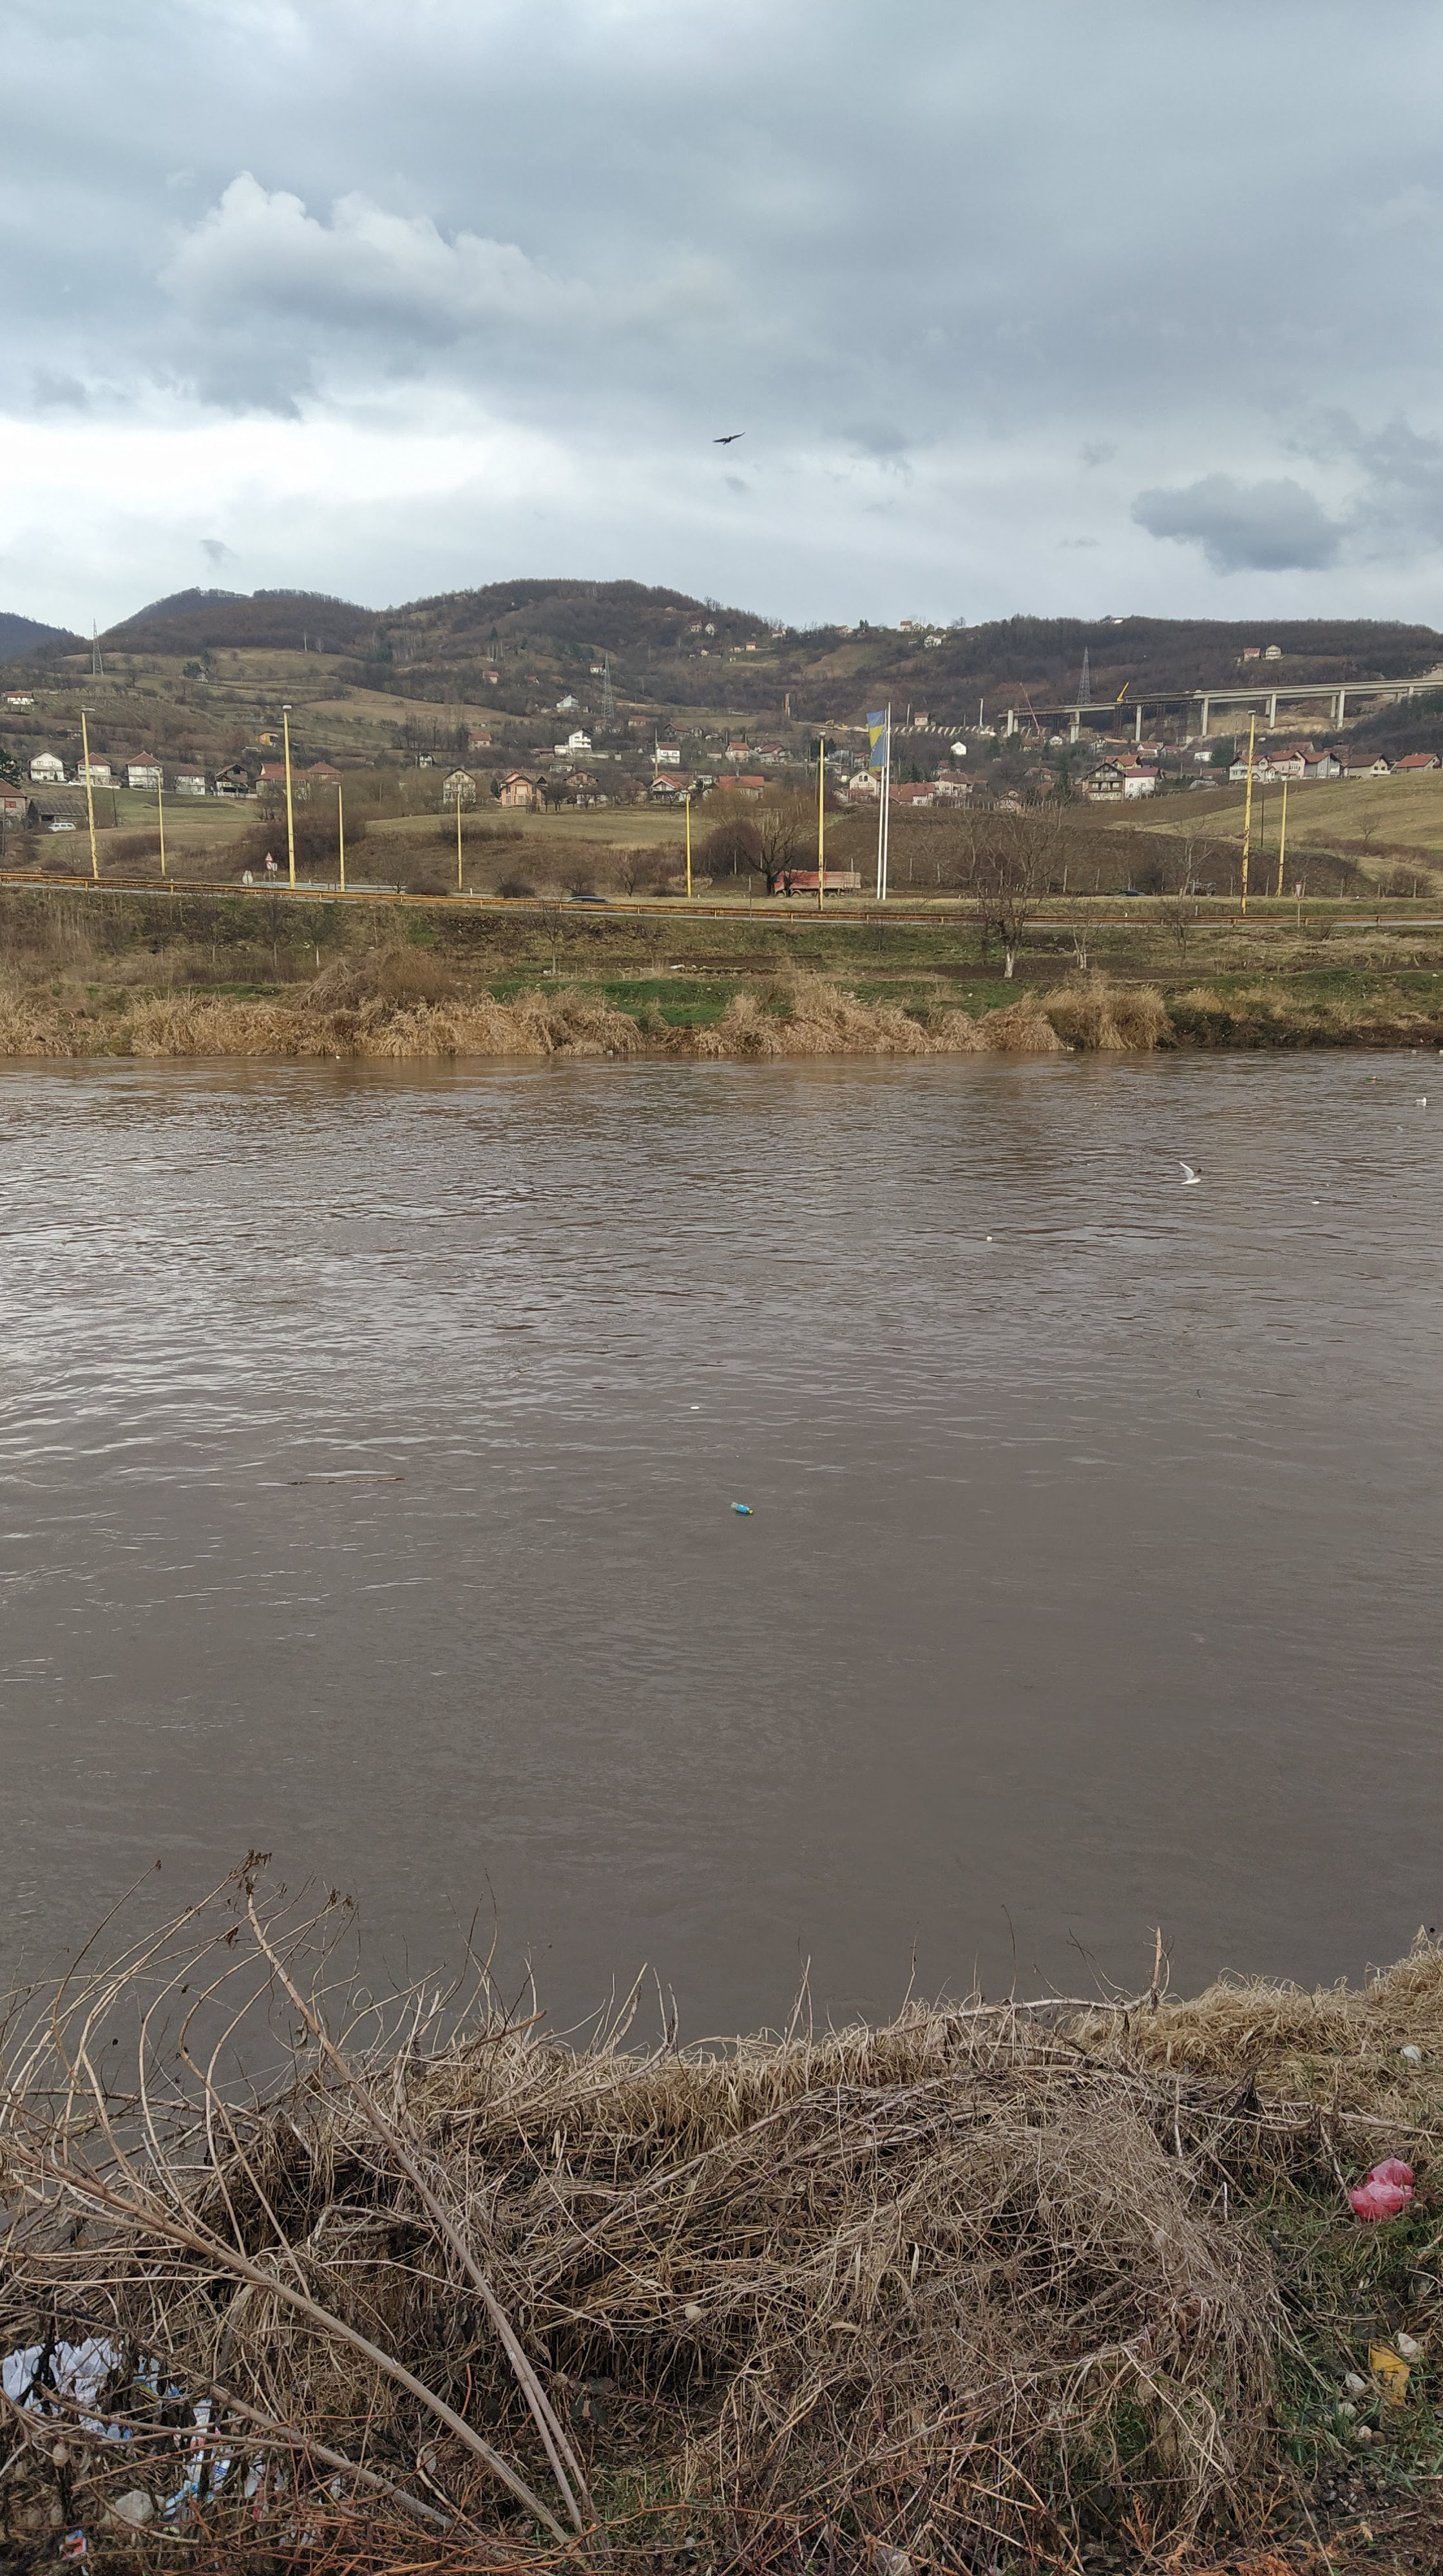Plastic Bottle: (731, 1502, 752, 1514), (986, 1235, 992, 1240), (1367, 1076, 1374, 1079), (1413, 1049, 1416, 1054), (1068, 1047, 1075, 1049), (1399, 1127, 1402, 1131), (336, 1056, 338, 1058)
